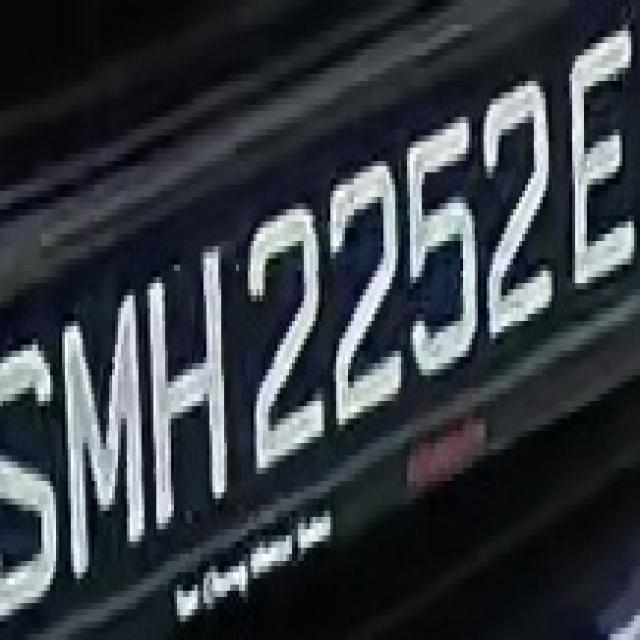2: (239, 197, 324, 498), (310, 172, 401, 450), (478, 80, 557, 351)
5: (398, 110, 478, 388)
E: (563, 31, 637, 314)
H: (141, 234, 239, 535)
M: (59, 277, 150, 560)
S: (3, 289, 62, 640)
